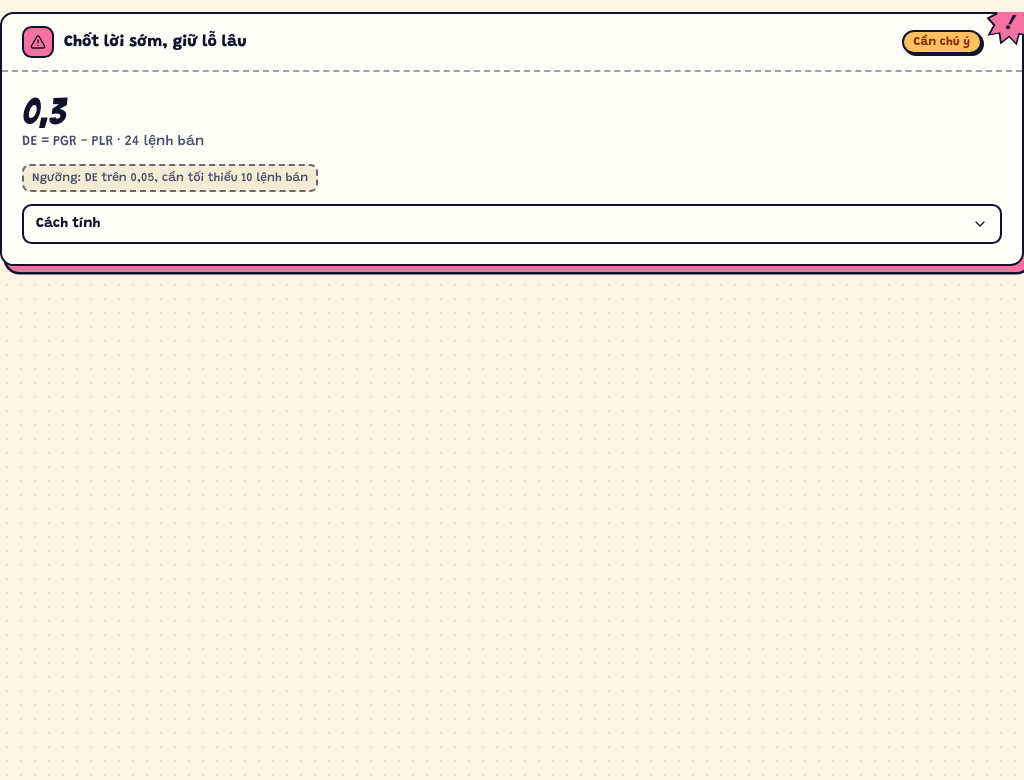
Test: TendencyCard › reveals the formula and the exact inputs in the 'Cách tính' popover
Click the heading "Cách tính".
click(68, 224)  # box [36,216,988,232]
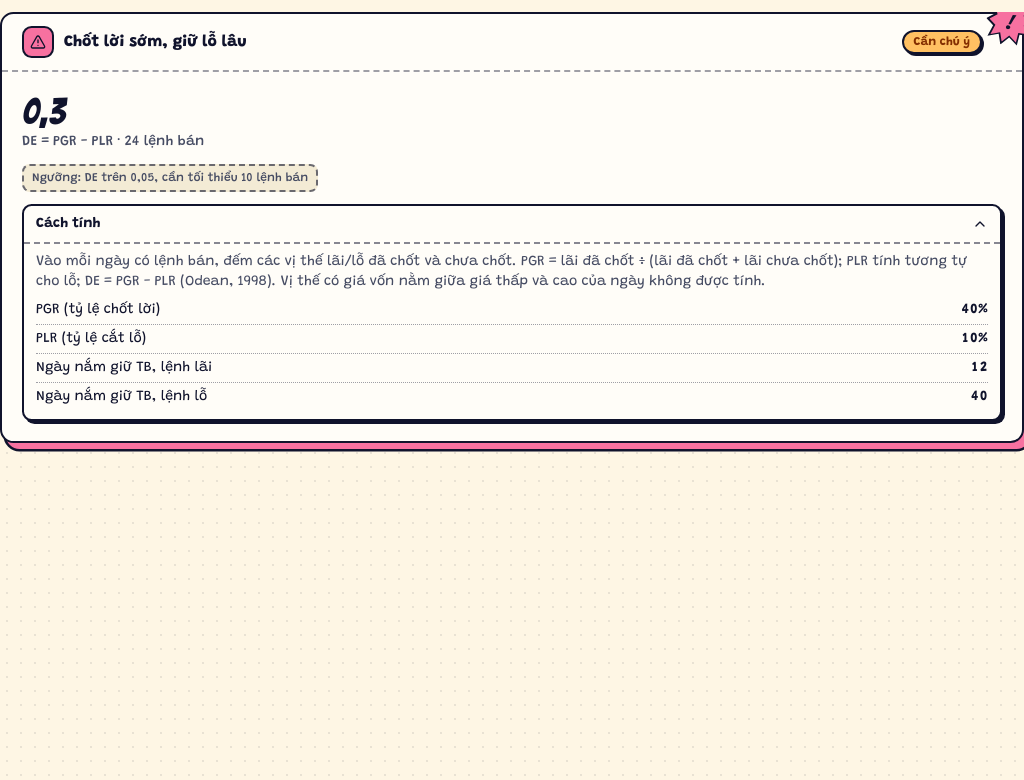
Expected: the text "Odean" is shown, [36,255,967,289]
Expected: the text "PGR (tỷ lệ chốt lời)" is shown, [36,300,160,320]
Expected: the text "40%" is shown, [961,300,988,320]
